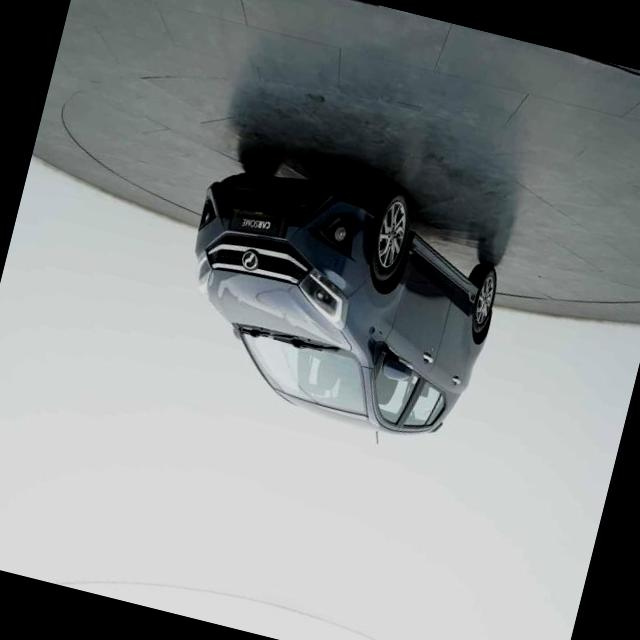PeroduaAxia: (156, 138, 520, 464)
